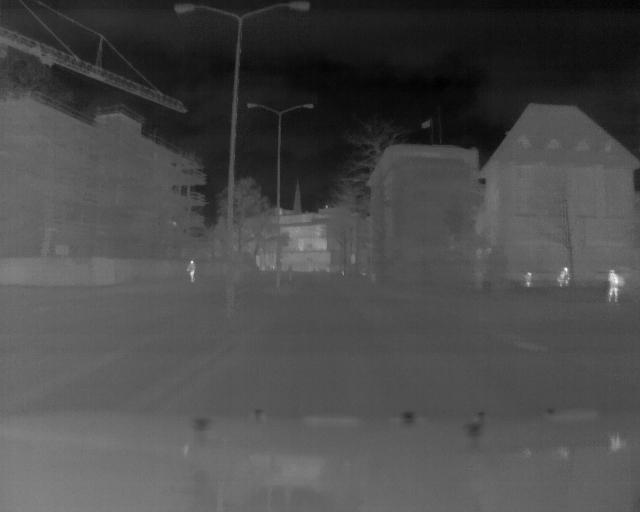person: (607, 270, 621, 300), (558, 264, 573, 290), (184, 256, 196, 281), (523, 270, 533, 288)
